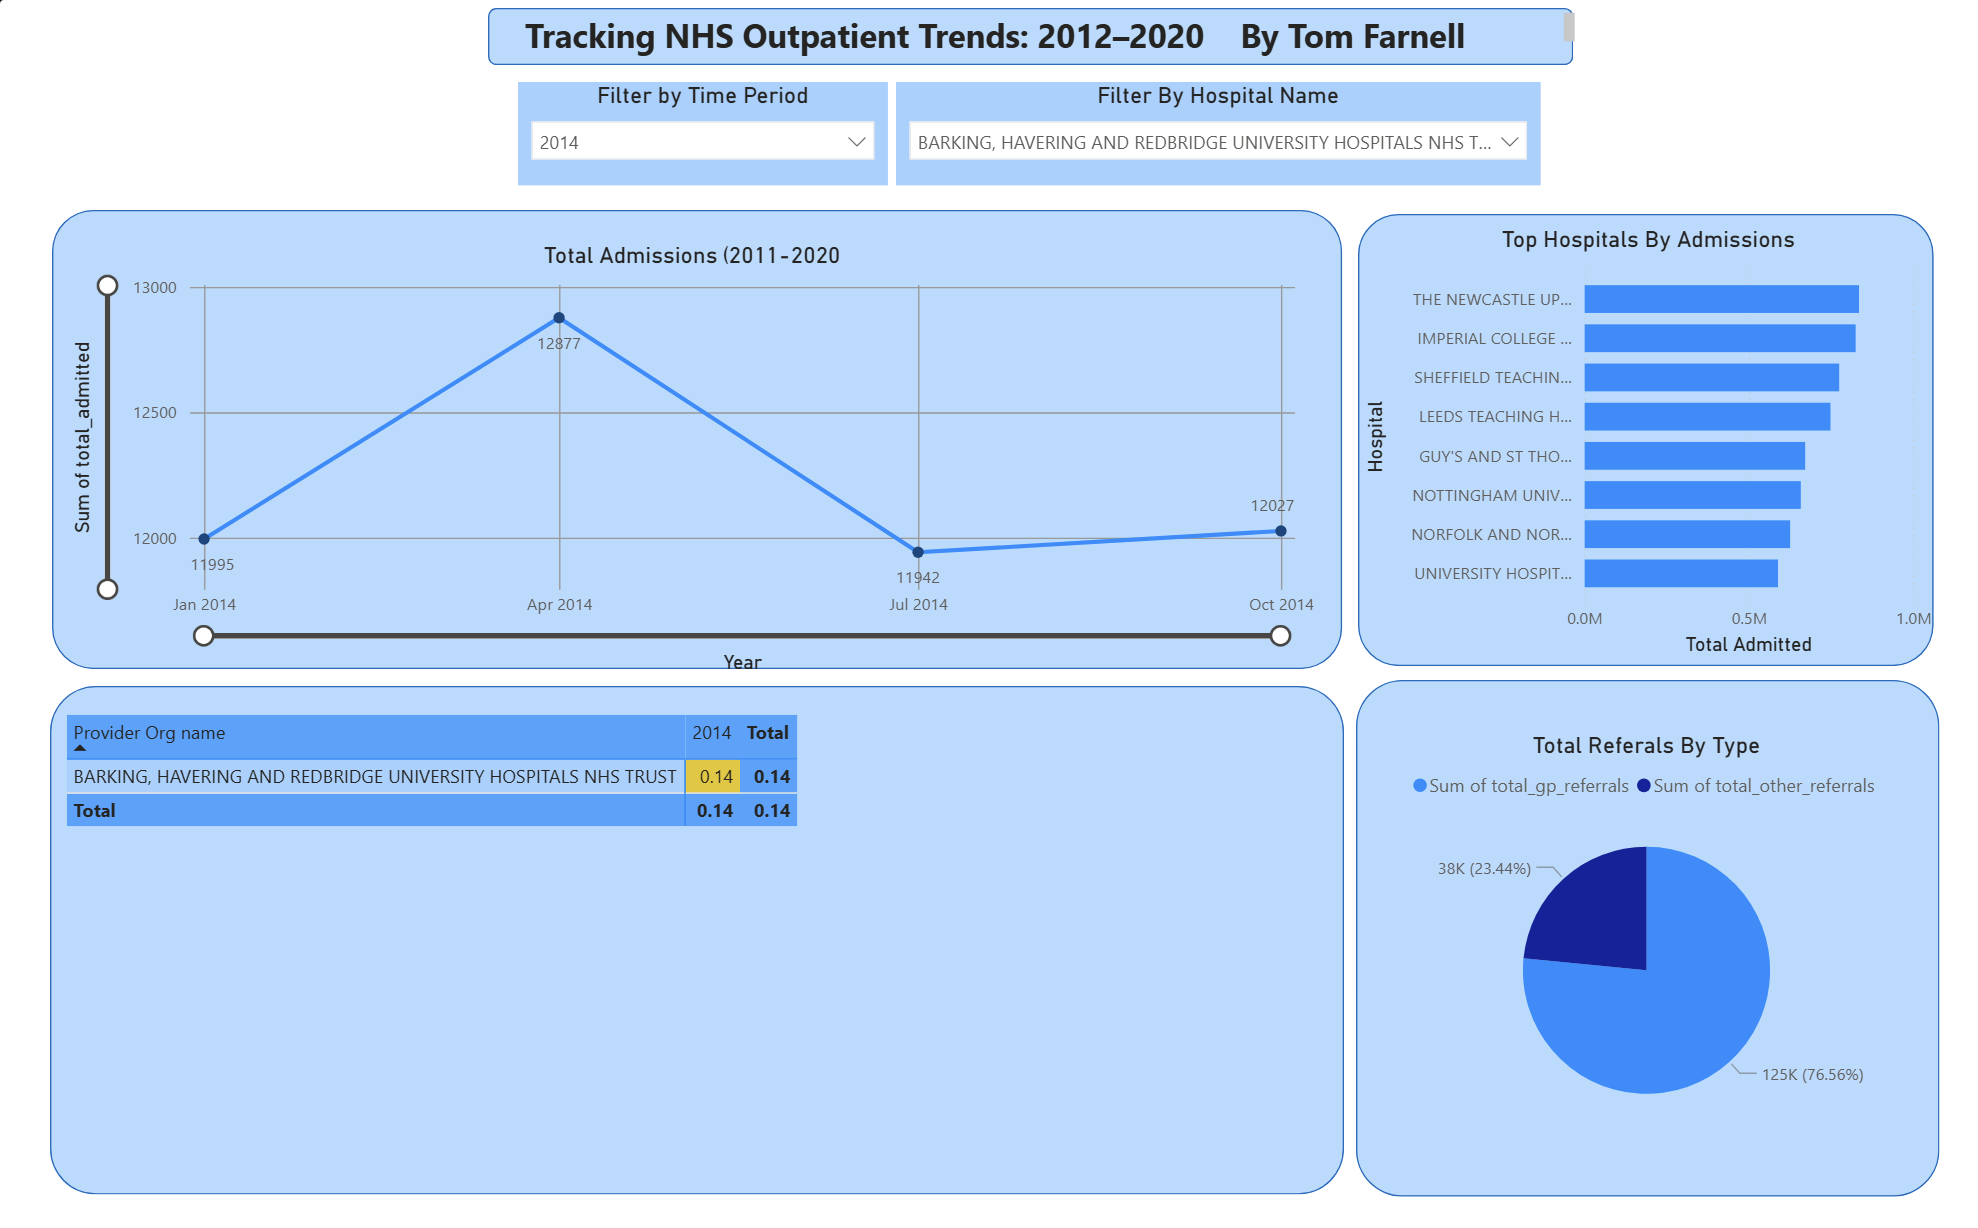

What the dashboard file says about the page in this screenshot:
{"tool":"powerbi","page":{"name":"Page 1","canvas":[1600,1200],"ordinal":0},"visuals":[{"type":"shape","box":[359.7,7.9,798,42],"z":0,"group":"g6"},{"type":"slicer","title":"Filter by Time Period","fields":{"Values":["nhs_dataset_with_quarters.Period.Variation.Date Hierarchy.Year","nhs_dataset_with_quarters.Period.Variation.Date Hierarchy.Quarter"]},"box":[381.5,61.7,272,76],"z":0,"group":"g2"},{"type":"group","id":"g1","title":"Group 2","box":[38.2,505.5,960,374.5],"z":0},{"type":"shape","box":[38.2,505.5,951.6,374],"z":0,"group":"g1"},{"type":"group","id":"g2","title":"Group 1","box":[381.5,5.7,782,132],"z":1000,"group":"g6"},{"type":"slicer","title":"Filter By Hospital Name","fields":{"Values":["nhs_dataset_with_quarters.Provider Org name"]},"box":[659.5,61.7,474,76],"z":1000,"group":"g2"},{"type":"shape","box":[999.5,159.5,423.5,332.7],"z":1000,"group":"g4"},{"type":"group","id":"g3","title":"Group 3","box":[998.2,501.8,429.1,380],"z":1000},{"type":"textbox","box":[381.5,5.7,782,48],"z":2000,"group":"g2"},{"type":"group","id":"g4","title":"Group 4","box":[999.5,159.5,427.3,332.7],"z":2000},{"type":"shape","box":[998.2,501.8,429.1,380],"z":2000,"group":"g3"},{"type":"group","id":"g5","title":"Group 5","box":[40,156.4,949.1,345.5],"z":3000},{"type":"shape","box":[40,156.4,949.1,337.7],"z":3000,"group":"g5"},{"type":"group","id":"g6","title":"Group 6","box":[359.7,5.7,803.8,132],"z":4000},{"type":"lineChart","title":"Total Admissions (2011-2020","fields":{"Y":["Sum(nhs_dataset_with_quarters.total_admitted)"],"Category":["nhs_dataset_with_quarters.Period.Variation.Date Hierarchy.Year","nhs_dataset_with_quarters.Period.Variation.Date Hierarchy.Quarter"]},"box":[49.3,180.5,923.8,321.3],"z":4000,"group":"g5"},{"type":"barChart","title":"Top Hospitals By Admissions","fields":{"Category":["nhs_dataset_with_quarters.Provider Org name"],"Y":["Sum(nhs_dataset_with_quarters.total_admitted)"]},"box":[999.5,168.6,427.3,320.3],"z":5000,"group":"g4"},{"type":"pivotTable","fields":{"Rows":["nhs_dataset_with_quarters.Provider Org name"],"Columns":["nhs_dataset_with_quarters.Period.Variation.Date Hierarchy.Year","nhs_dataset_with_quarters.Period.Variation.Date Hierarchy.Quarter"],"Values":["nhs_dataset_with_quarters.First DNA Rate"]},"box":[46.2,521.5,951.6,344],"z":6000,"group":"g1"},{"type":"pieChart","title":"Total Referals By Type","fields":{"Y":["Sum(nhs_dataset_with_quarters.total_gp_referrals)","Sum(nhs_dataset_with_quarters.total_other_referrals)"]},"box":[1017.9,540.3,389.1,301.8],"z":7000,"group":"g3"}]}

Visuals, with their boxes on the page's 1600x1200 design canvas (x1, y1, x2, y2). These are canvas units, not pixel positions in the 1978x1228 screenshot, which may show the page scaled, cropped or inside an application window:
shape: detection(360, 8, 1158, 50)
"Filter by Time Period" slicer: detection(382, 62, 654, 138)
"Group 2" group: detection(38, 506, 998, 880)
shape: detection(38, 506, 990, 880)
"Group 1" group: detection(382, 6, 1164, 138)
"Filter By Hospital Name" slicer: detection(660, 62, 1134, 138)
shape: detection(1000, 160, 1423, 492)
"Group 3" group: detection(998, 502, 1427, 882)
textbox: detection(382, 6, 1164, 54)
"Group 4" group: detection(1000, 160, 1427, 492)
shape: detection(998, 502, 1427, 882)
"Group 5" group: detection(40, 156, 989, 502)
shape: detection(40, 156, 989, 494)
"Group 6" group: detection(360, 6, 1164, 138)
"Total Admissions (2011-2020" lineChart: detection(49, 180, 973, 502)
"Top Hospitals By Admissions" barChart: detection(1000, 169, 1427, 489)
pivotTable - nhs_dataset_with_quarters.Provider Org name x nhs_dataset_with_quarters.Period.Variation.Date Hierarchy.Year: detection(46, 522, 998, 866)
"Total Referals By Type" pieChart: detection(1018, 540, 1407, 842)
